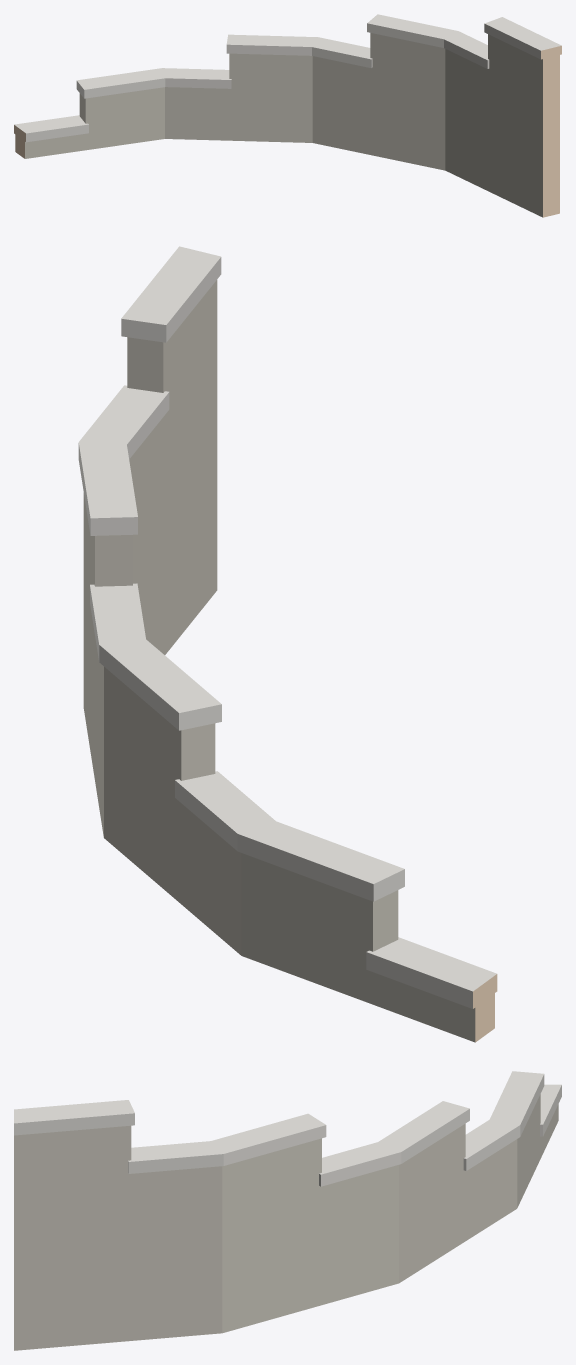
Rendered from Tiered_Retaining_Wall_Stepped_Curve_Tall_5x5.glb.
3 views of the same model, one above another, from view 1: azimuth 30°, elevation 25°; view 2: azimuth 150°, elevation 25°; view 3: azimuth 270°, elevation 25° (orthographic). The views are drawn at different scales.
Parts seen in each view (by area): view 1: Tiered_Retaining_Wall_Stepped_Curve_Tall_5x5; view 2: Tiered_Retaining_Wall_Stepped_Curve_Tall_5x5; view 3: Tiered_Retaining_Wall_Stepped_Curve_Tall_5x5.
Part boxes in pixels (bbox=[...]): Tiered_Retaining_Wall_Stepped_Curve_Tall_5x5: bbox=[14, 14, 561, 217]; Tiered_Retaining_Wall_Stepped_Curve_Tall_5x5: bbox=[78, 246, 497, 1042]; Tiered_Retaining_Wall_Stepped_Curve_Tall_5x5: bbox=[14, 1071, 561, 1350].
Bounding box in the file's own units: 516 × 237 × 516.
